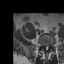CCS_normal: (46, 44, 47, 52)
LFS_severe_stenosis: (49, 43, 51, 48)
LLS_normal: (47, 44, 49, 49)
RFS_stenosis: (42, 42, 44, 48)
RLS_severe_stenosis: (44, 44, 46, 49)
